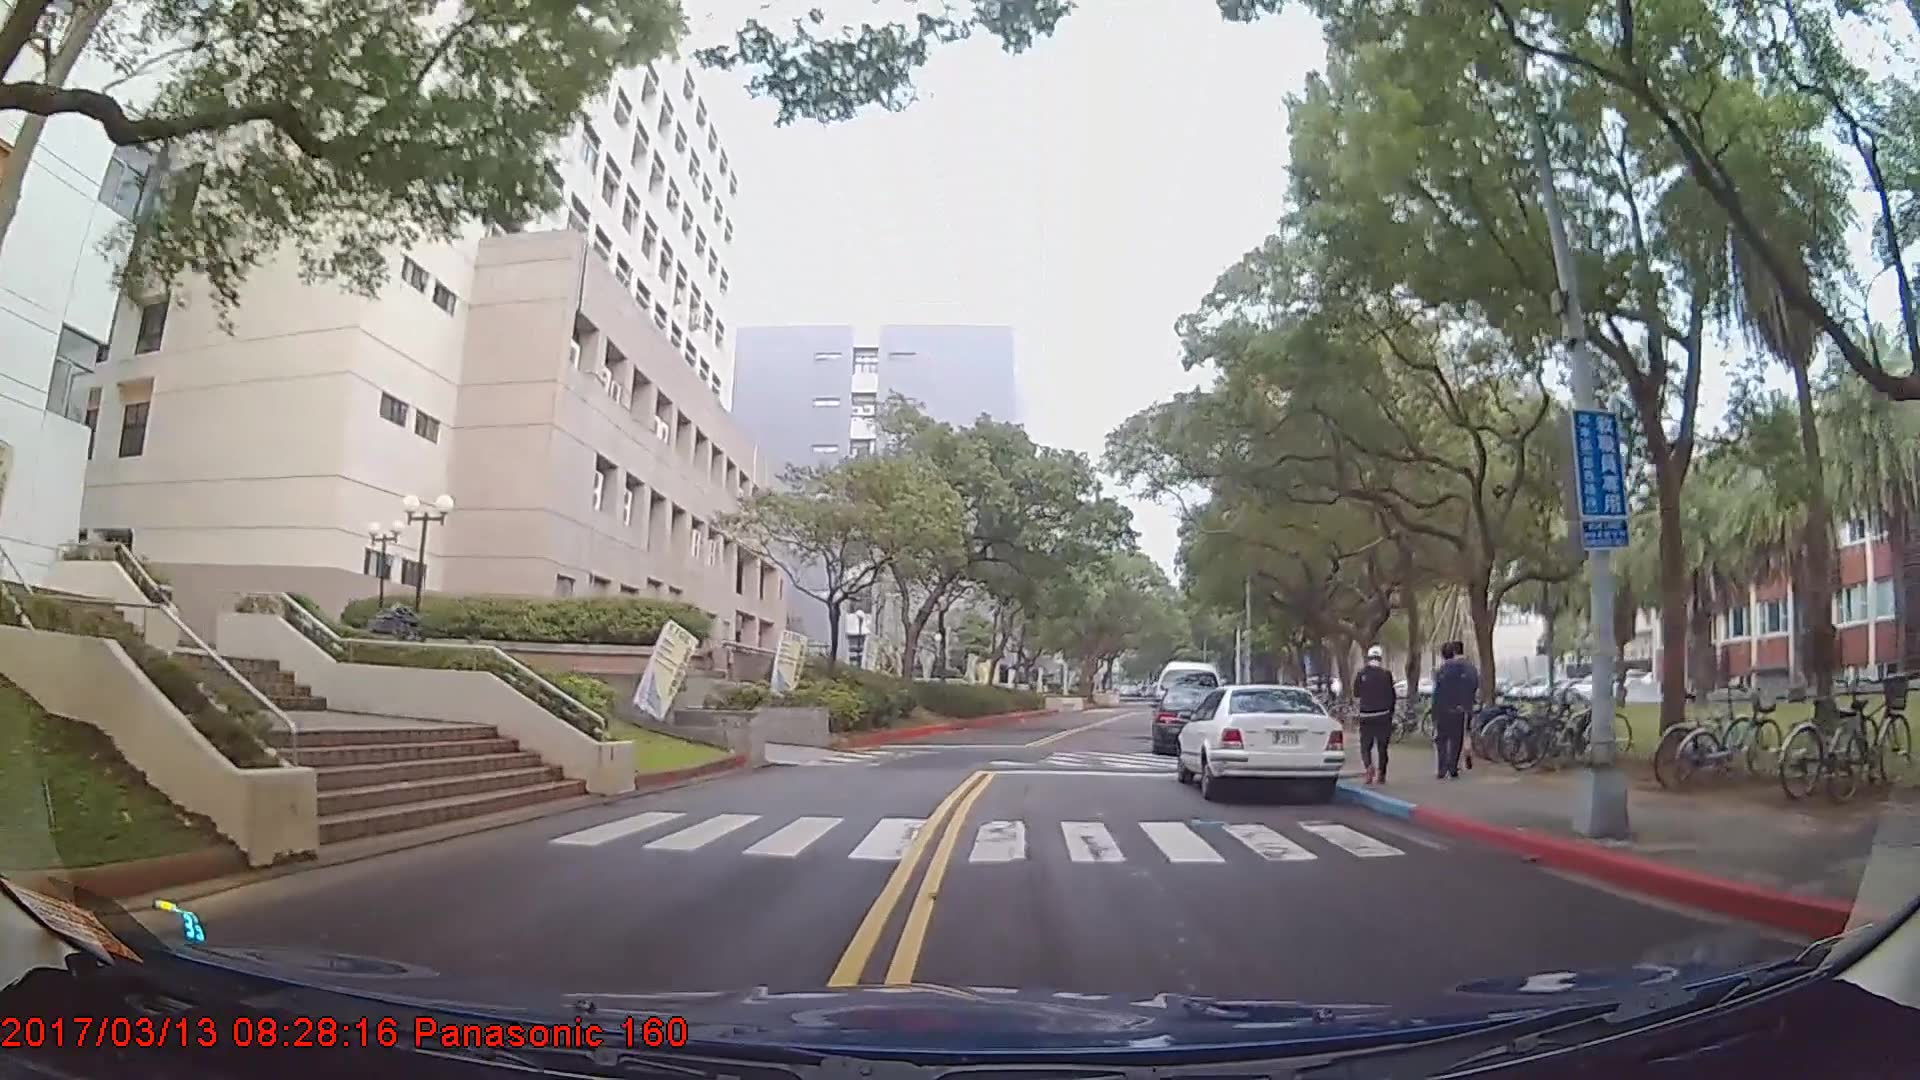pedestrian: (1429, 641, 1481, 787), (1351, 645, 1400, 790)
vehicle: (1176, 684, 1346, 803), (1149, 683, 1238, 754)
